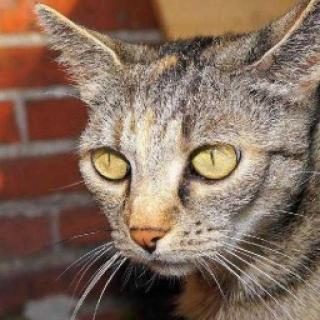cat: (32, 0, 320, 289)
nose: (120, 203, 170, 254)
